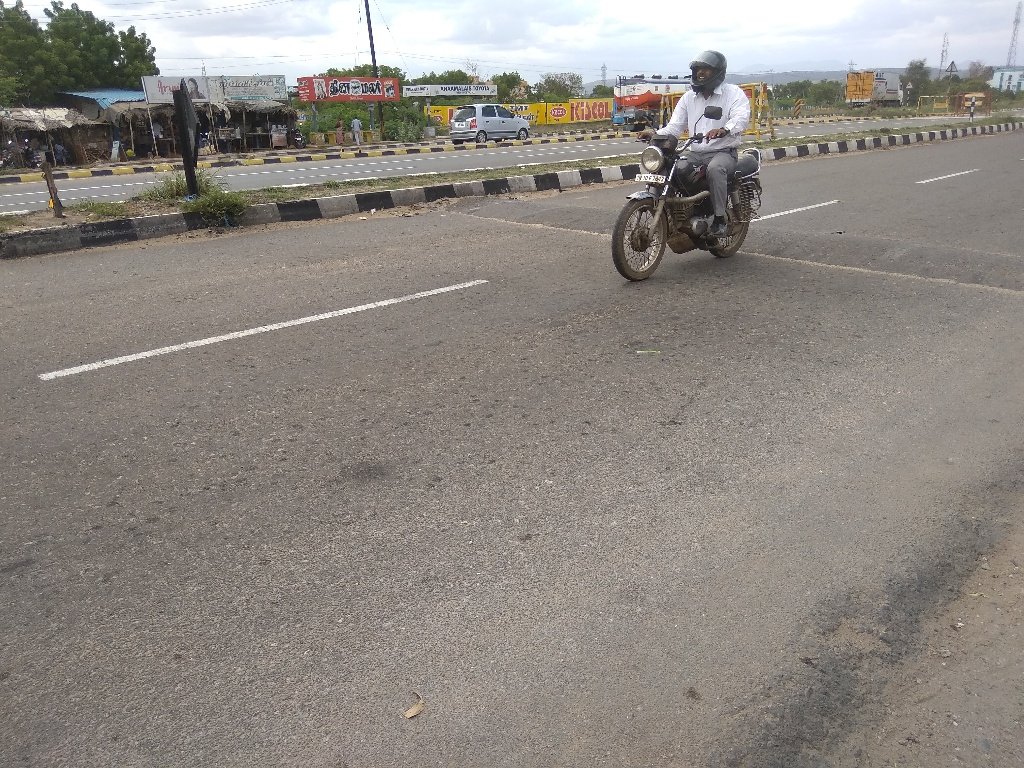biker: (592, 17, 782, 305)
helmet: (683, 40, 736, 105)
